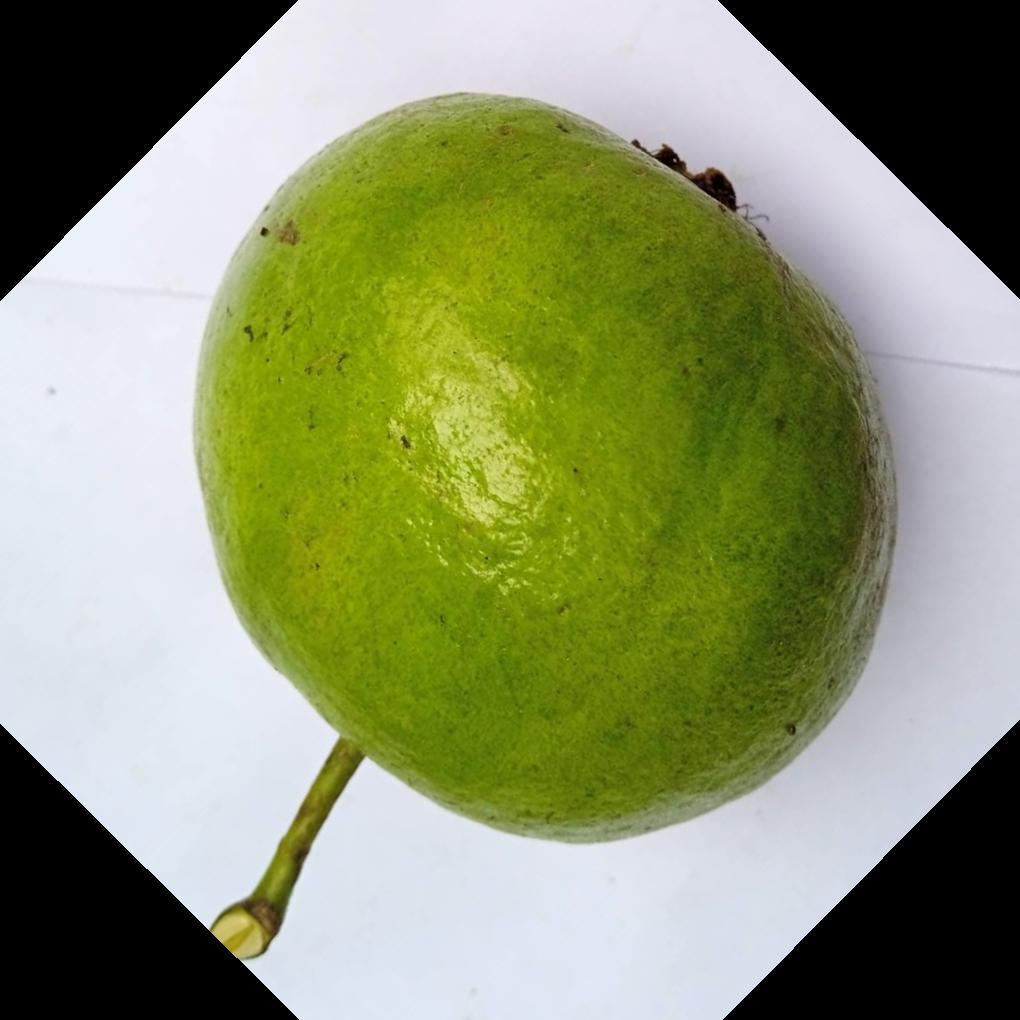FreshGuava: (189, 94, 900, 849)
